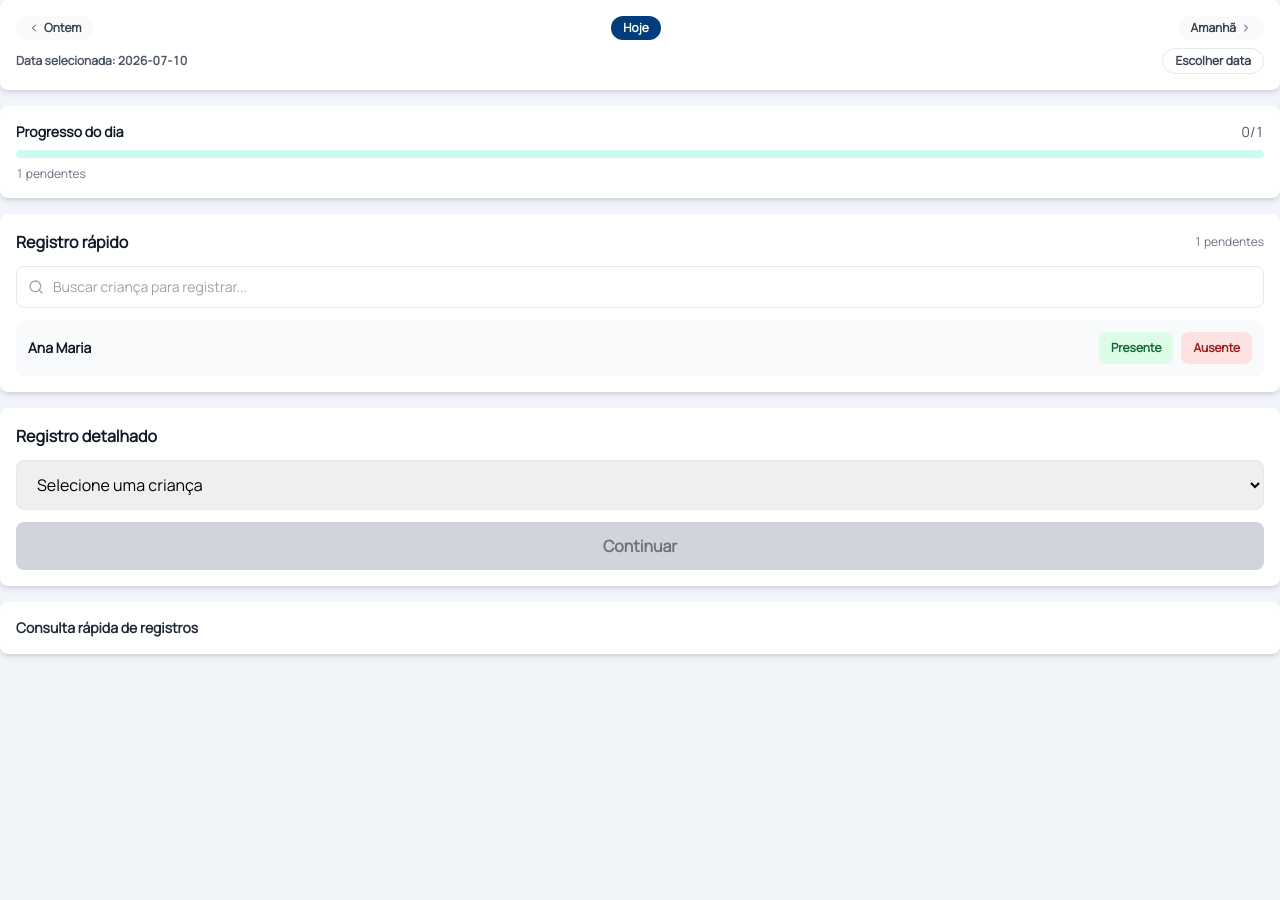
DailyRecordView › hides full date picker by default and toggles it on demand
Click the button "Escolher data" at (1213, 61), box 1162,48 -> 1264,74
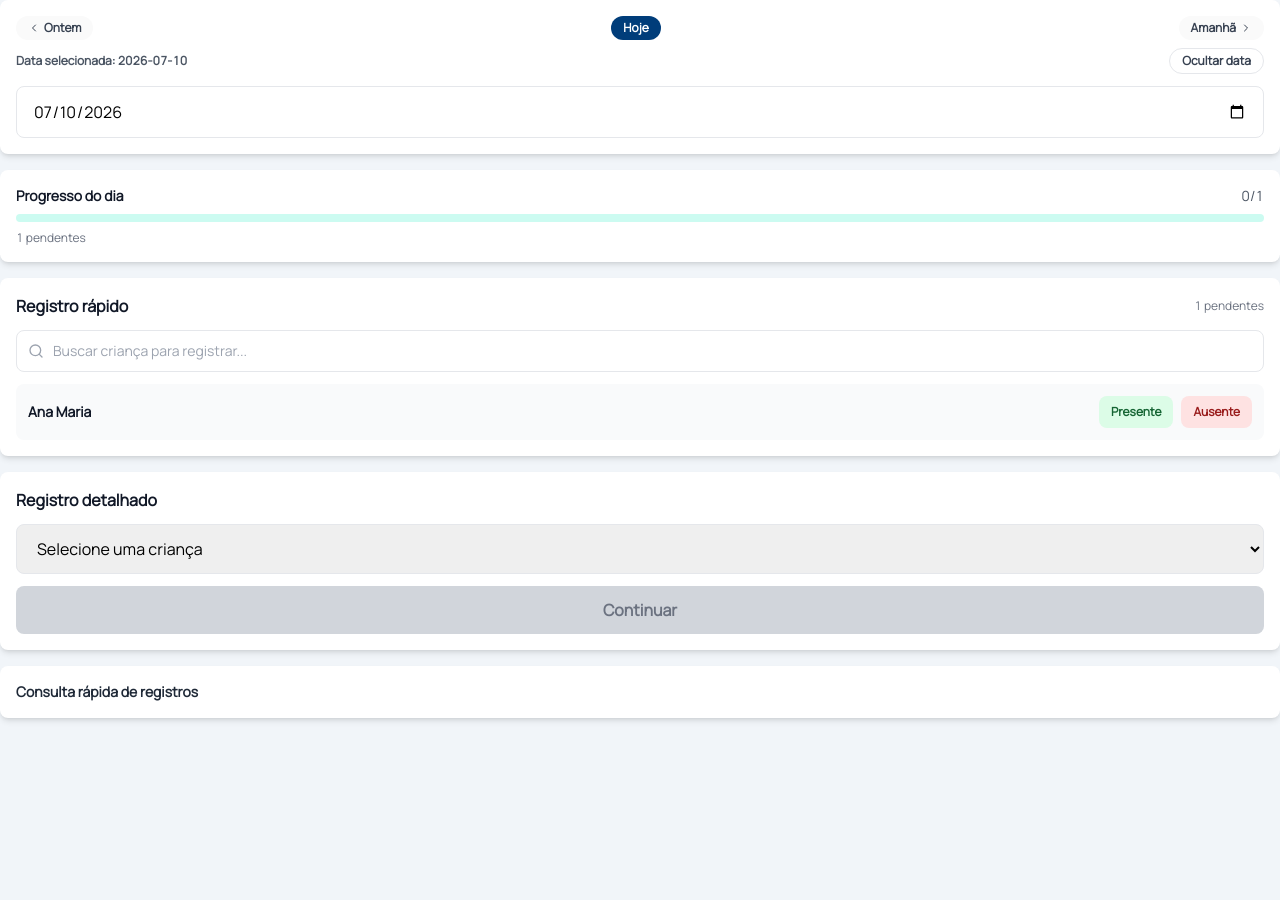
Check: the date field named "Selecionar data manualmente" is shown, box 16,86 -> 1264,138
